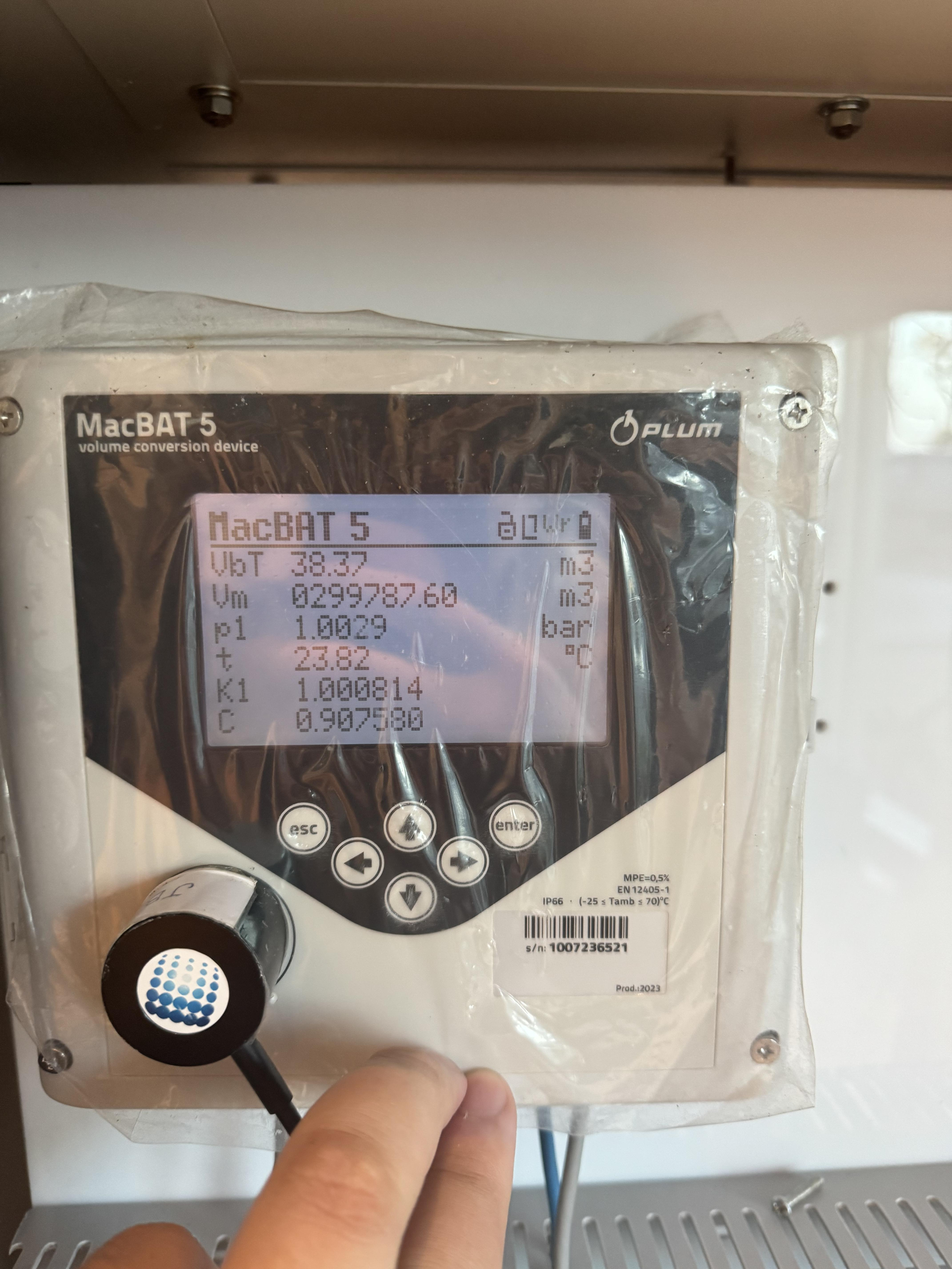digital_screen: (193, 495, 614, 745)
